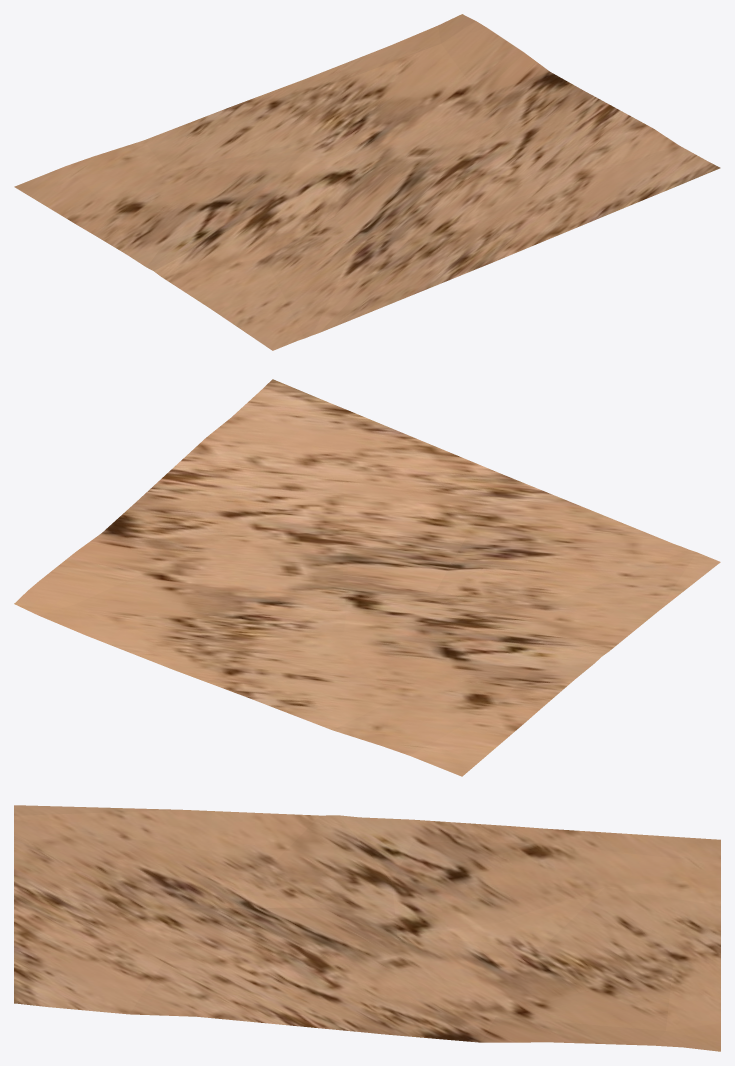
The picture shows the model from 3 angles, top to bottom: view 1: azimuth 30°, elevation 25°; view 2: azimuth 150°, elevation 25°; view 3: azimuth 270°, elevation 25°; orthographic projection. The views are drawn at different scales.
Bounding box in the file's own units: 1.04 × 0.2201 × 1.04.
3 materials, 3 textured.
